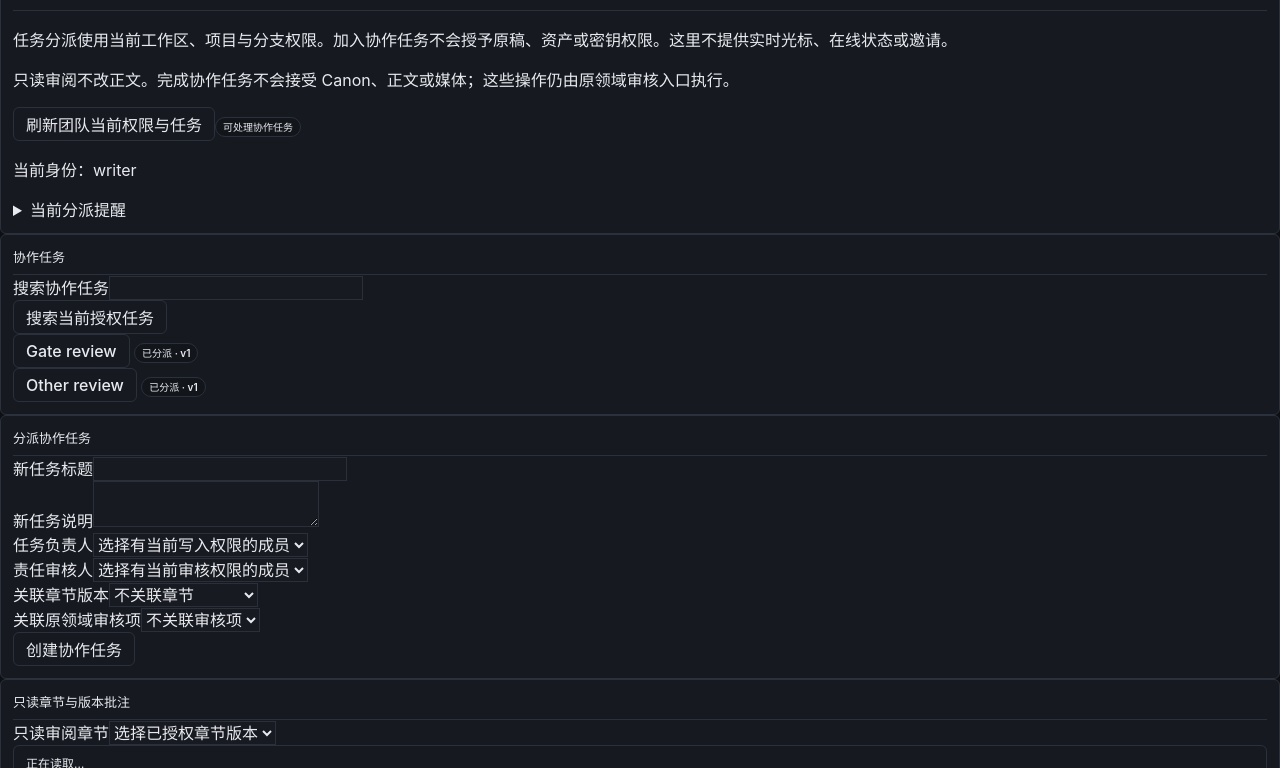
preserves note-only drafts across task switches and clears a note after a confirmed transition
Click the button "Gate review".
click(71, 351)  # box [13,334,130,368]
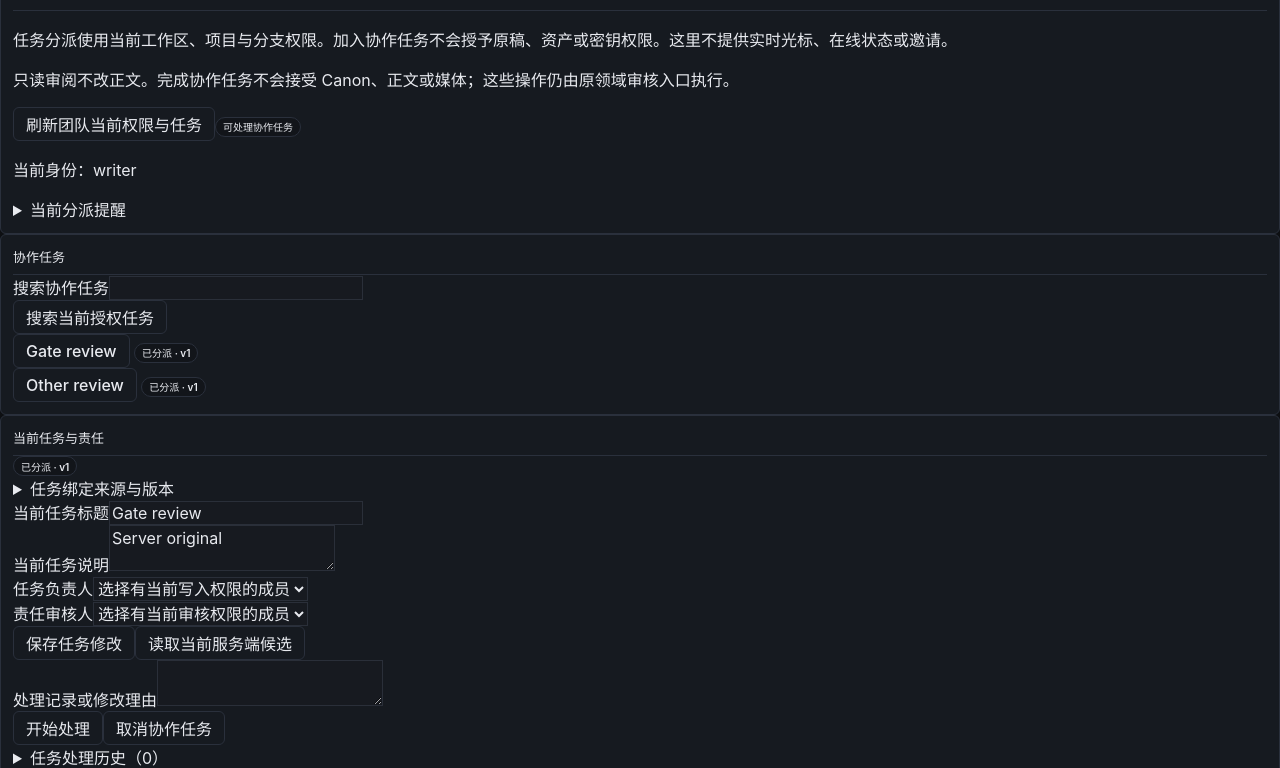
Type "待处理理由 🙂" into the text box labelled "处理记录或修改理由".
click(270, 683); type("待处理理由 🙂")  # box [157,660,383,706]
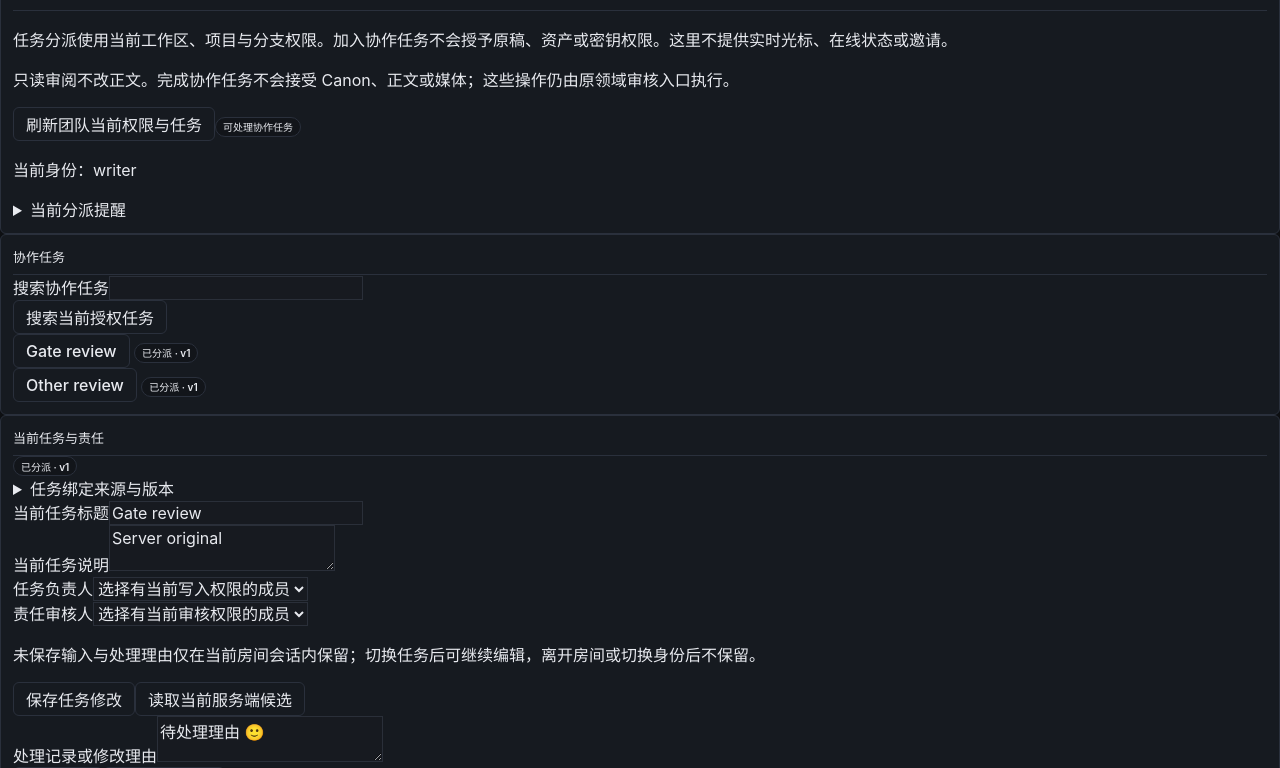
Click the button "Other review".
click(75, 385)  # box [13,368,137,402]
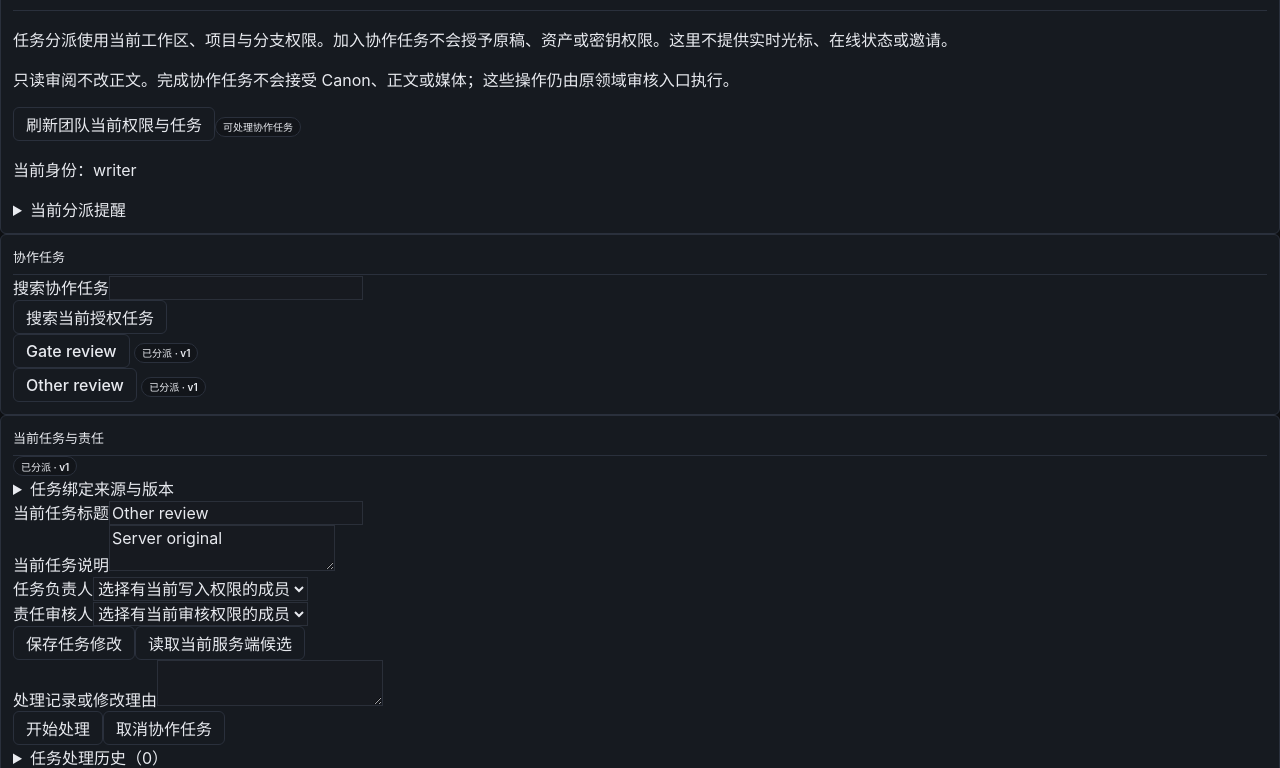
Expected: the text box labelled "处理记录或修改理由" is empty, [157,660,383,706]
Click the button "Gate review".
click(71, 351)  # box [13,334,130,368]
(page scrolled)
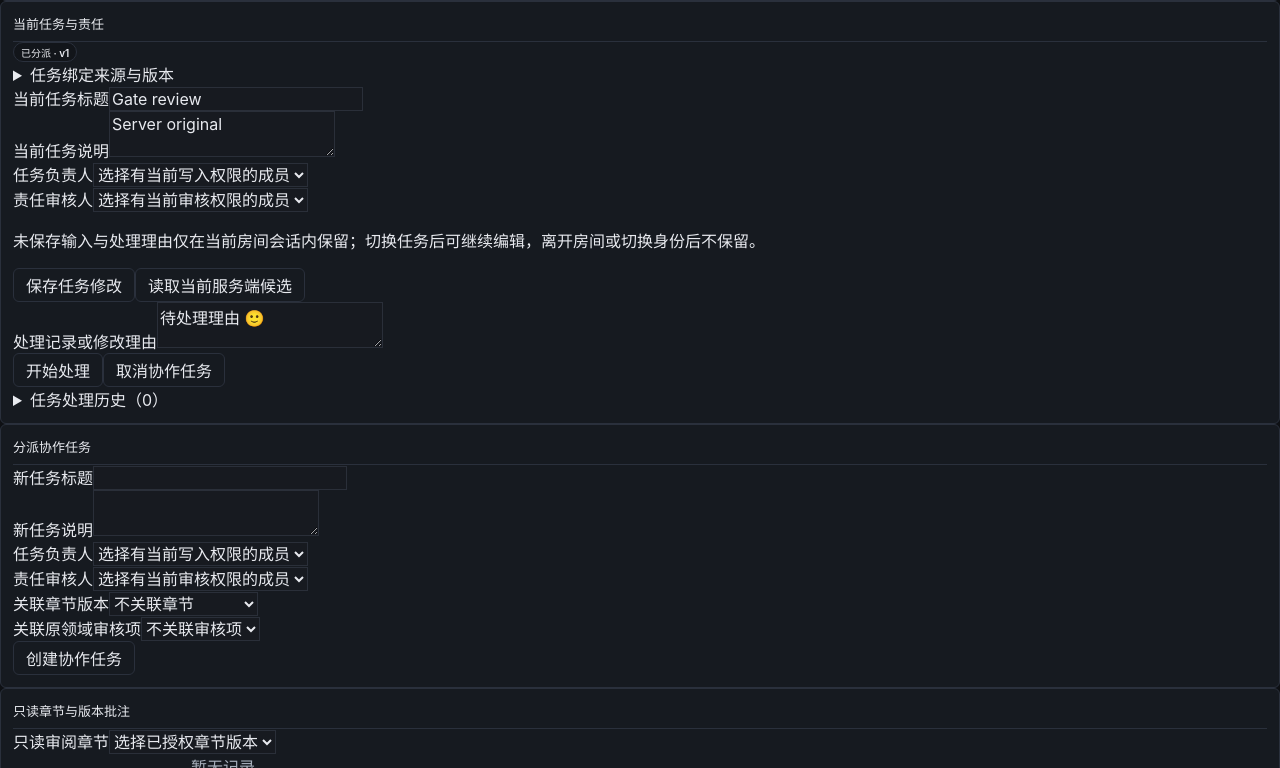
Expected: the text box labelled "处理记录或修改理由" holds "待处理理由 🙂", [157,302,383,348]
Click the button "开始处理".
click(58, 370)  # box [13,353,103,387]
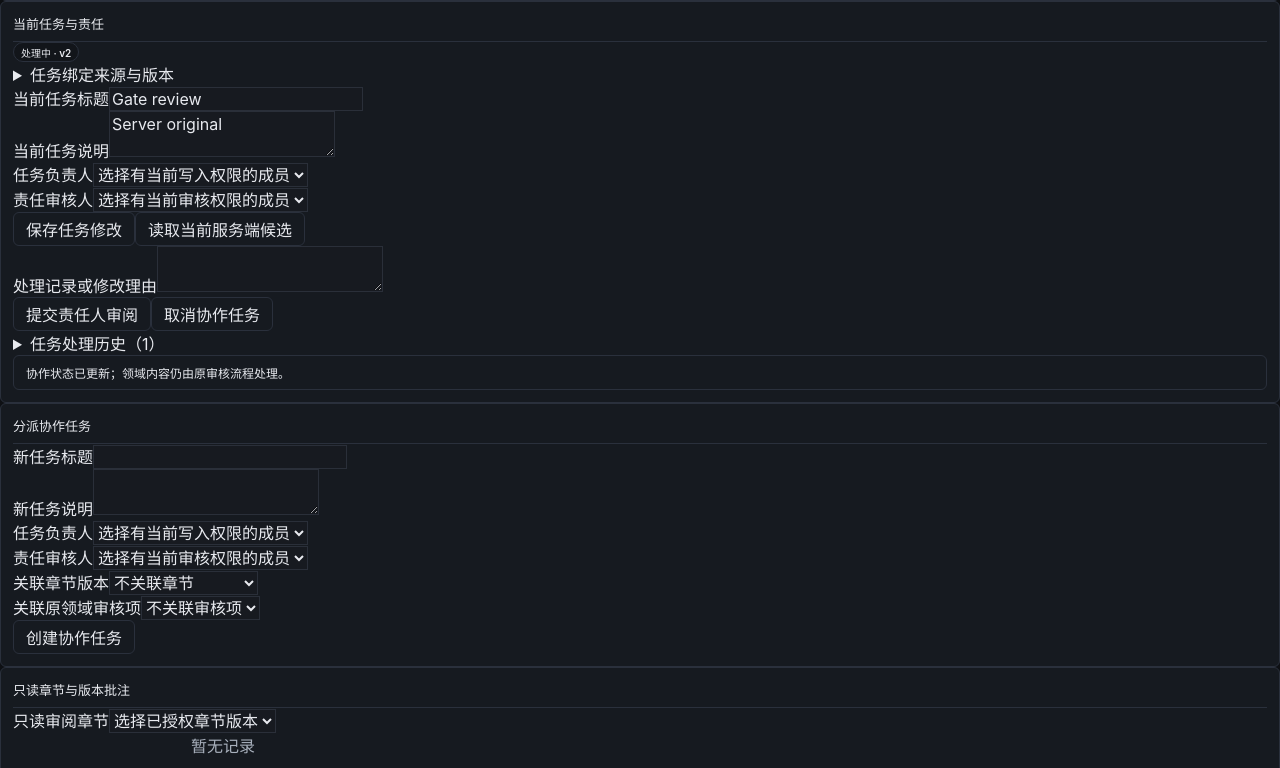
Expected: the button "提交责任人审阅" is shown, [13,297,151,331]
Expected: the text box labelled "处理记录或修改理由" is empty, [157,246,383,292]
